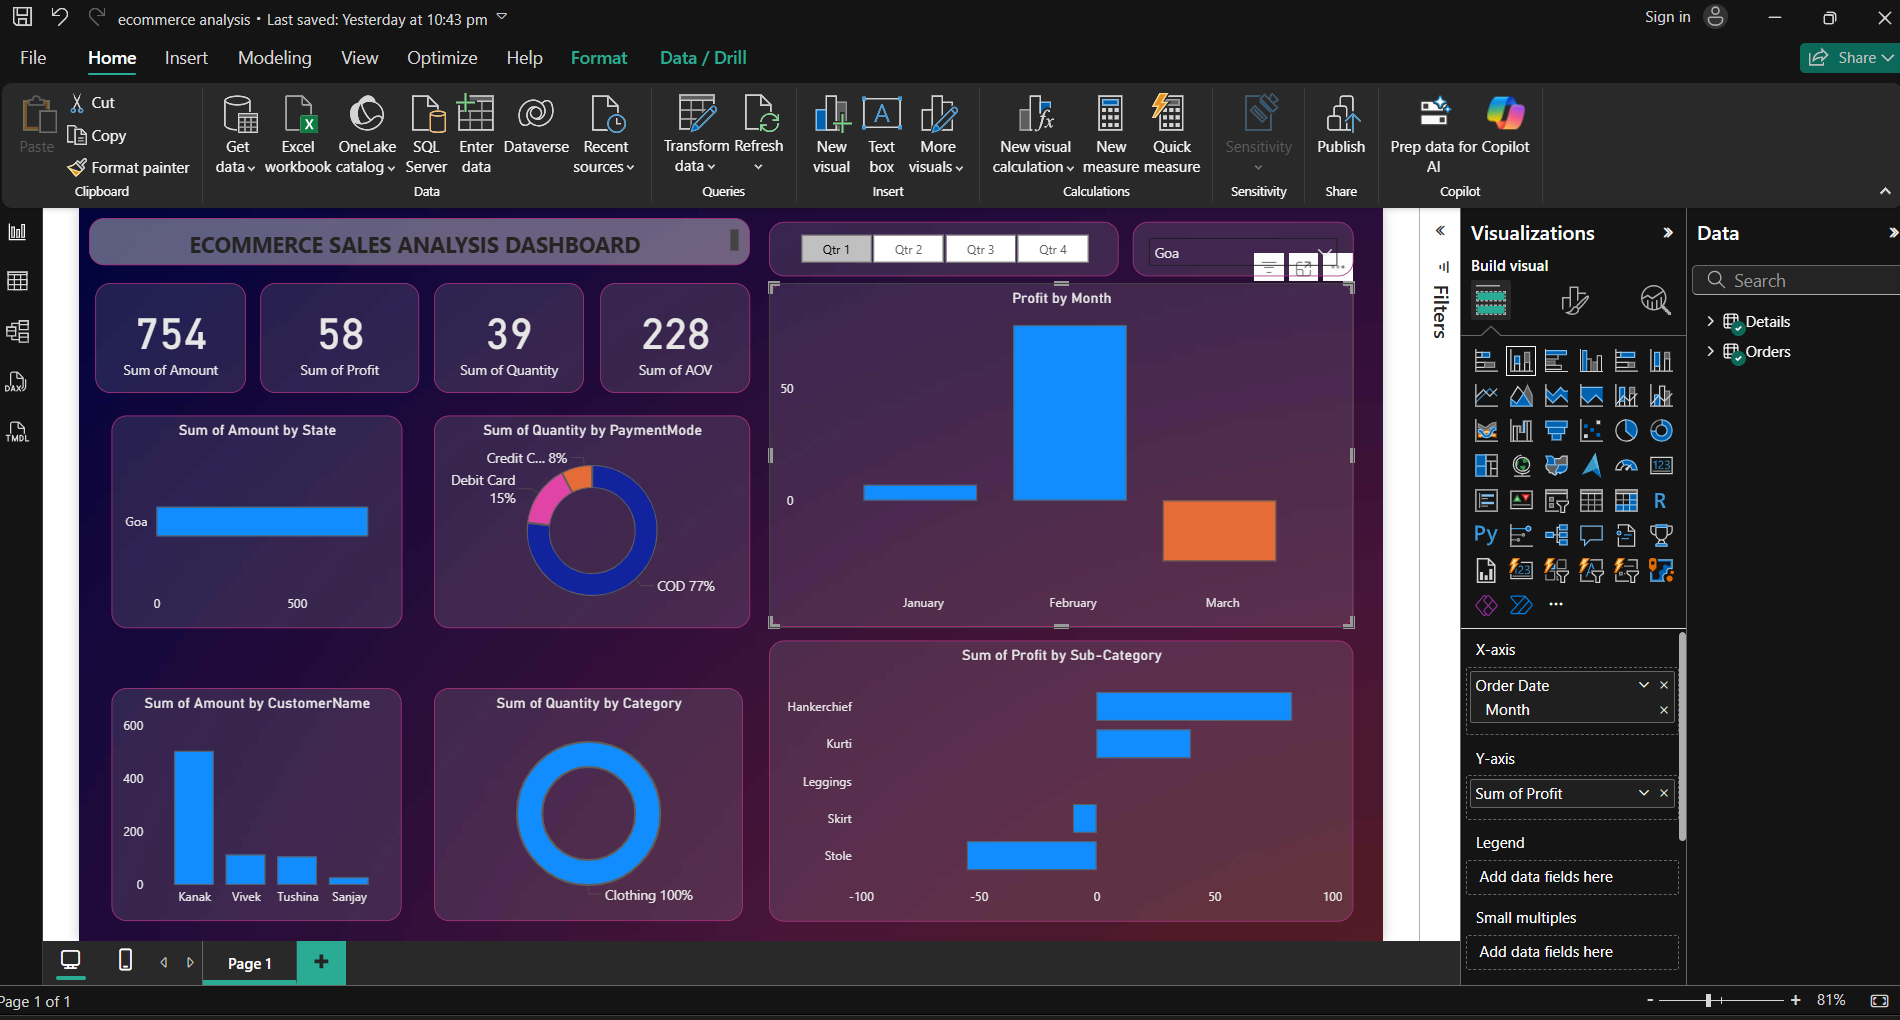

The dashboard page shown, as its layout file describes it:
{"tool":"powerbi","page":{"name":"Page 1","canvas":[1280,720],"ordinal":0},"visuals":[{"type":"textbox","box":[9.6,9.6,649.1,46.7],"z":0},{"type":"columnChart","title":"Profit by Month","fields":{"Category":["Orders.Order Date.Variation.Date Hierarchy.Month"],"Y":["Details.Profit"]},"box":[677.3,73.6,574.2,338.7],"z":1000},{"type":"barChart","fields":{"Category":["Details.Sub-Category"],"Y":["Details.Profit"]},"box":[677.9,424,573.6,275.8],"z":2000},{"type":"donutChart","fields":{"Category":["Details.Category"],"Y":["Details.Quantity"]},"box":[348.5,470.7,303.3,229.2],"z":3000},{"type":"donutChart","fields":{"Y":["Details.Quantity"],"Category":["Details.PaymentMode"]},"box":[348.5,203.1,310.1,208.6],"z":4000},{"type":"card","fields":{"Values":["Details.Amount"]},"box":[16.2,73.8,148.1,108.1],"z":5000},{"type":"card","fields":{"Values":["Details.Quantity"]},"box":[348.5,73.6,147.2,108],"z":6000},{"type":"card","fields":{"Values":["Details.Profit"]},"box":[177.9,73.6,155.8,108],"z":7000},{"type":"card","fields":{"Values":["Details.AOV"]},"box":[511.7,73.6,147.2,108],"z":8000},{"type":"barChart","fields":{"Category":["Orders.State"],"Y":["Details.Amount"]},"box":[31.9,203.7,284.7,208.6],"z":9000},{"type":"columnChart","fields":{"Category":["Orders.CustomerName"],"Y":["Details.Amount"]},"box":[32,471,285,229],"z":10000},{"type":"slicer","fields":{"Values":["Orders.Order Date.Variation.Date Hierarchy.Quarter"]},"box":[677.9,13.7,343.1,53.5],"z":11000},{"type":"slicer","fields":{"Values":["Orders.State"]},"box":[1034.7,13.7,216.8,53.5],"z":12000}]}

Visuals, with their boxes on the page's 1280x720 design canvas (x1, y1, x2, y2). These are canvas units, not pixel positions in the 1900x1020 screenshot, which may show the page scaled, cropped or inside an application window:
textbox: <box>10,10,659,56</box>
"Profit by Month" columnChart: <box>677,74,1252,412</box>
barChart - Details.Sub-Category x Details.Profit: <box>678,424,1252,700</box>
donutChart - Details.Category x Details.Quantity: <box>348,471,652,700</box>
donutChart - Details.Quantity x Details.PaymentMode: <box>348,203,659,412</box>
card - Details.Amount: <box>16,74,164,182</box>
card - Details.Quantity: <box>348,74,496,182</box>
card - Details.Profit: <box>178,74,334,182</box>
card - Details.AOV: <box>512,74,659,182</box>
barChart - Orders.State x Details.Amount: <box>32,204,317,412</box>
columnChart - Orders.CustomerName x Details.Amount: <box>32,471,317,700</box>
slicer - Orders.Order Date.Variation.Date Hierarchy.Quarter: <box>678,14,1021,67</box>
slicer - Orders.State: <box>1035,14,1252,67</box>
